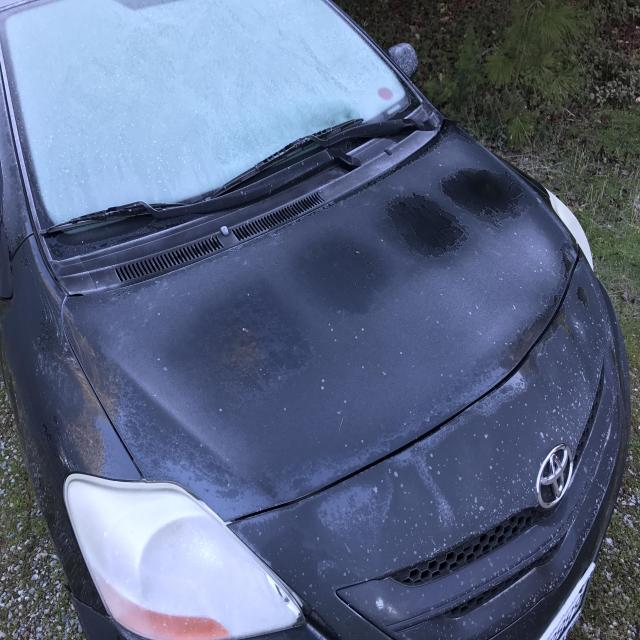scratch: (63, 121, 622, 640)
